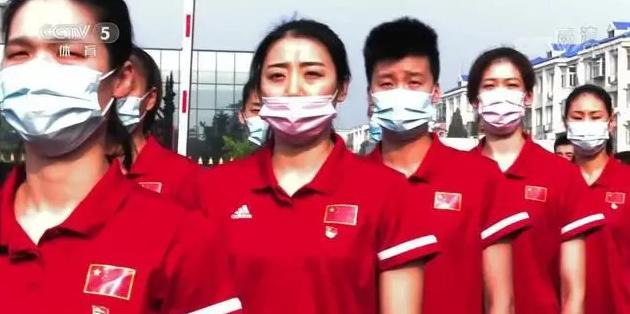OK: (1, 17, 108, 154), (371, 67, 435, 136), (478, 74, 527, 135), (568, 103, 611, 155), (245, 96, 281, 146)
WRONG: (263, 52, 336, 141)
